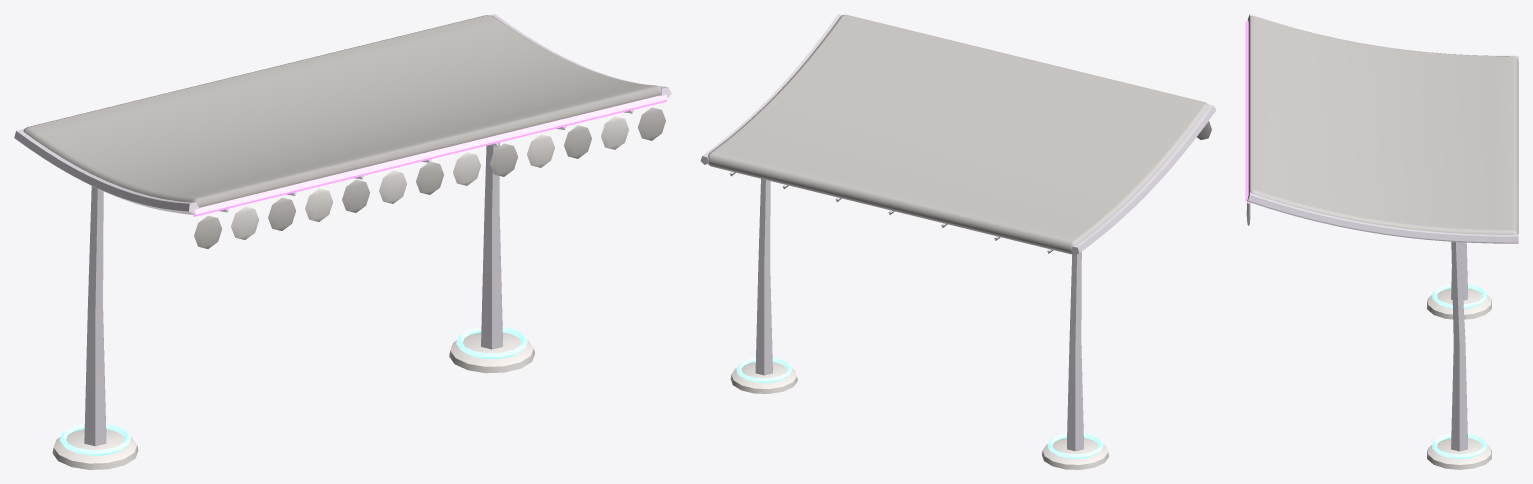
Rendered from canopy_curved.glb.
3 renders of one model, left to right at view 1: azimuth 30°, elevation 25°; view 2: azimuth 150°, elevation 25°; view 3: azimuth 270°, elevation 25°, orthographic. The views are drawn at different scales.
Parts seen in each view (by area): view 1: canopy_curved; view 2: canopy_curved; view 3: canopy_curved.
Boxes of the visible parts, x1=… form: canopy_curved: x1=14, y1=14, x2=671, y2=469; canopy_curved: x1=700, y1=14, x2=1216, y2=469; canopy_curved: x1=1245, y1=14, x2=1518, y2=469.
Size of the model in its own units: 5.11 by 3.67 by 3.24.
